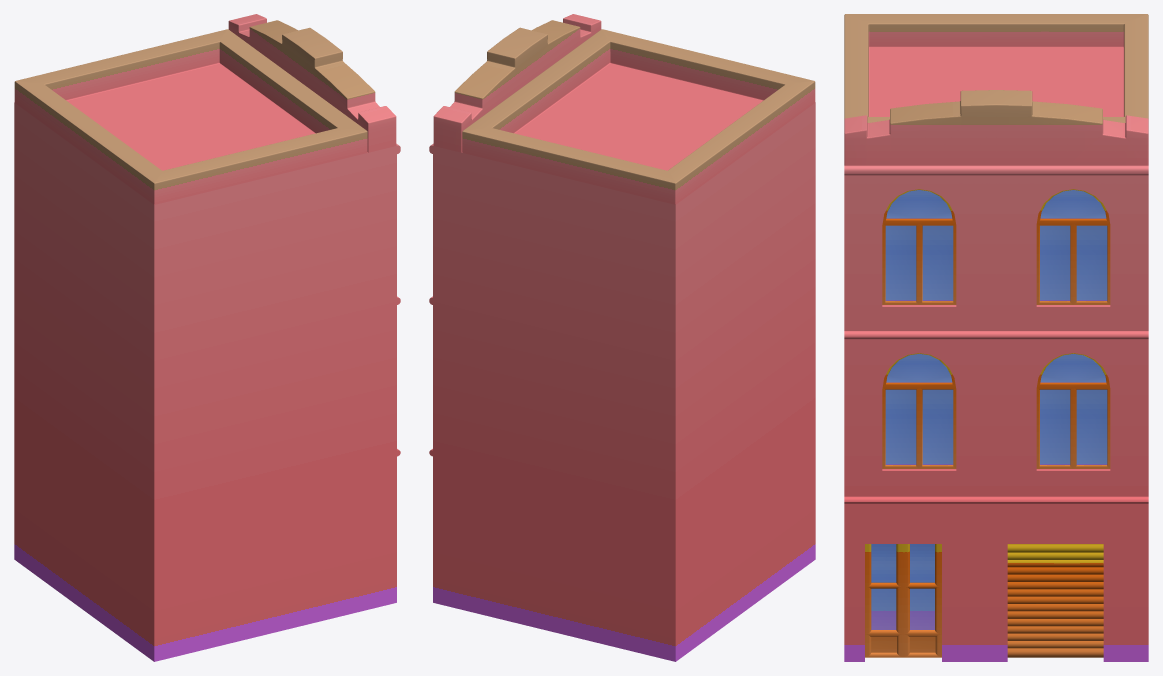
The model's file is SM_buildingBig03.fbx.
The picture shows the model from 3 angles, left to right: view 1: azimuth 30°, elevation 25°; view 2: azimuth 150°, elevation 25°; view 3: azimuth 270°, elevation 25°; orthographic projection. The views are drawn at different scales.
Parts seen in each view (by area): view 1: SM_buildingBig03; view 2: SM_buildingBig03; view 3: SM_buildingBig03.
Boxes of the visible parts, <box> form: SM_buildingBig03: <box>14,14,400,661</box>; SM_buildingBig03: <box>429,14,815,661</box>; SM_buildingBig03: <box>844,14,1148,661</box>.
Bounding box in the file's own units: 508 × 1011 × 500.
